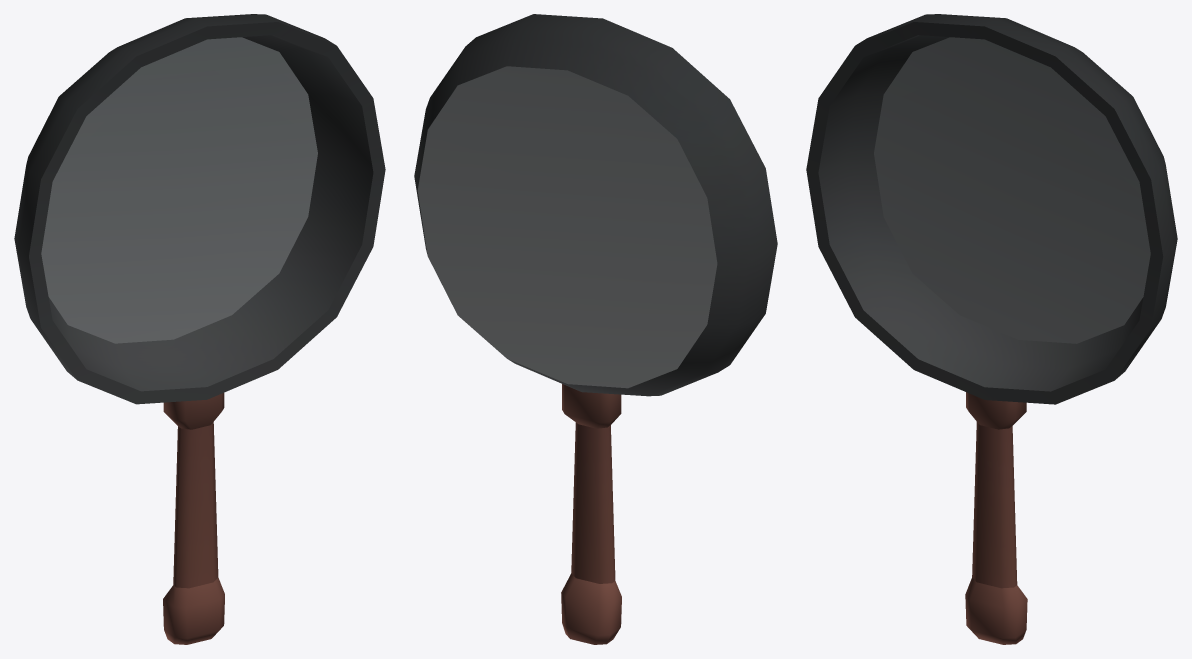
File: FryingPan.fbx
The picture shows the model from 3 angles, left to right: view 1: azimuth 30°, elevation 25°; view 2: azimuth 150°, elevation 25°; view 3: azimuth 330°, elevation 25°; orthographic projection. The views are drawn at different scales.
Parts seen in each view (by area): view 1: FryingPan; view 2: FryingPan; view 3: FryingPan.
Part boxes in pixels (bbox=[...]): FryingPan: bbox=[14, 14, 385, 644]; FryingPan: bbox=[414, 14, 777, 644]; FryingPan: bbox=[806, 14, 1177, 644].
Size of the model in its own units: 47.08 by 8.32 by 78.26.
